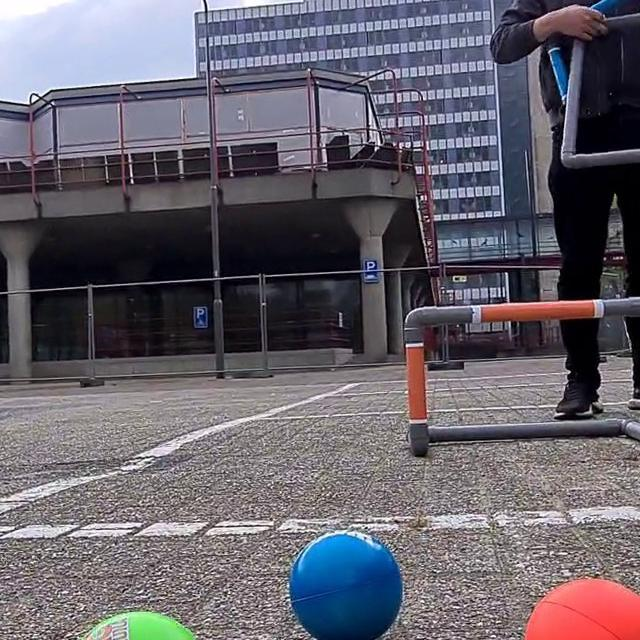ball: (288, 530, 404, 640), (522, 576, 640, 639)
